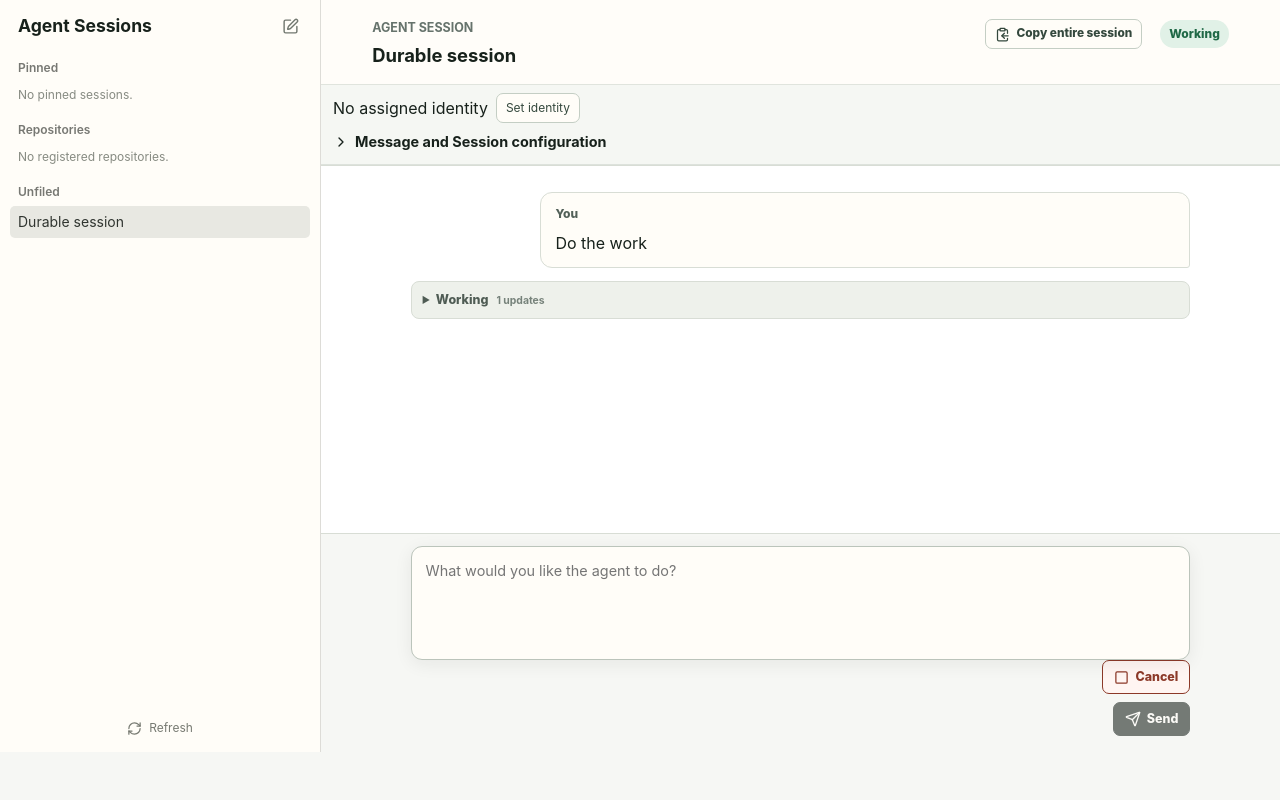
Test case: AgentSessionScreen › ignores another Session update while reflecting an update for the selected Session
Expected: the text "Do the work" is shown, top-left (555, 233), bottom-right (647, 253)
Expected: the text "Selected update" is not shown
Click the text "Working" at (462, 299), box top-left (436, 292), bottom-right (488, 307)
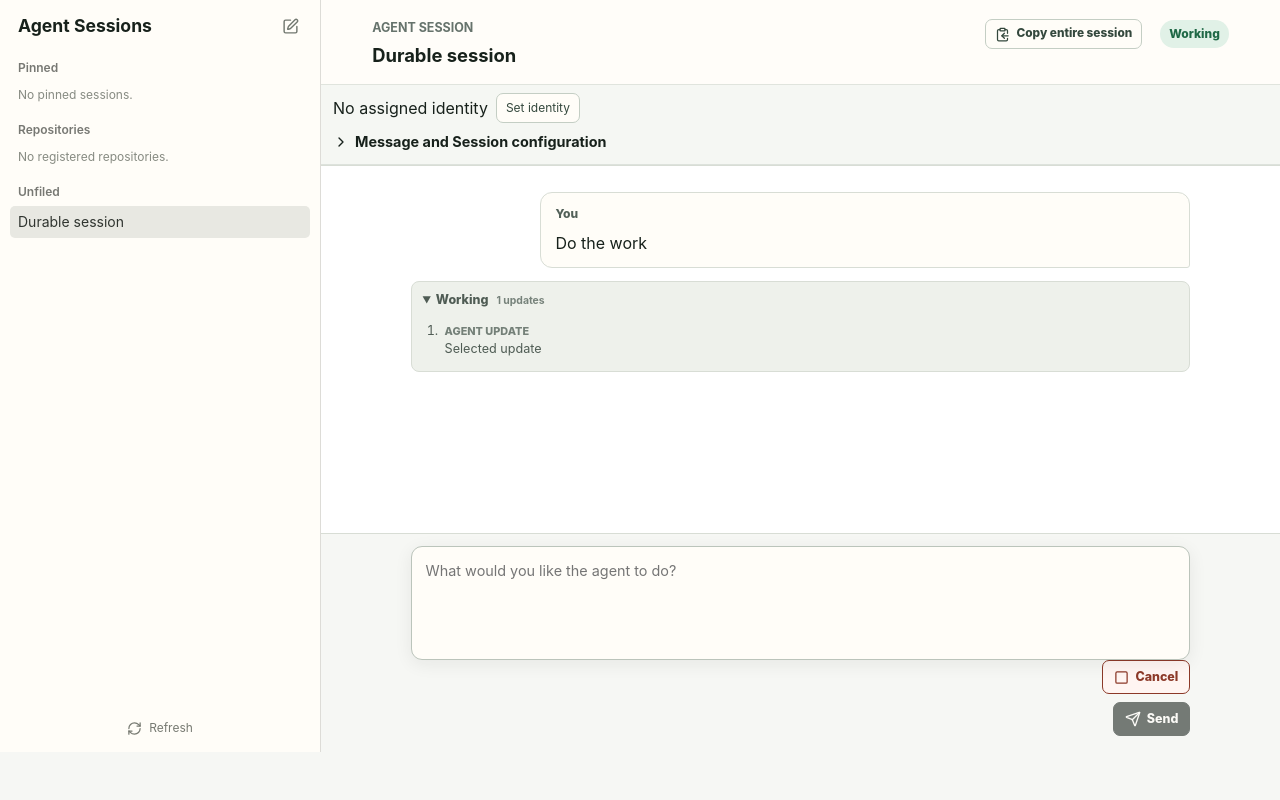
Expected: the text "Selected update" is shown, top-left (445, 341), bottom-right (542, 356)
